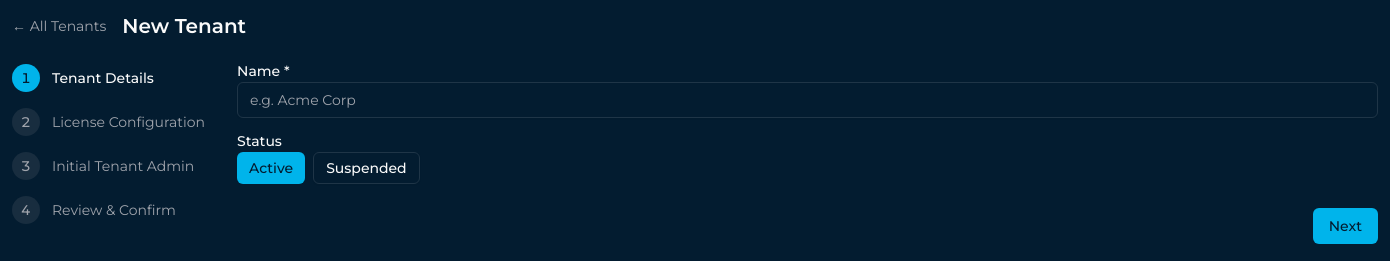
TenantProvisioningPage › step 1 advance: fill in name and click Next renders License Configuration step
This screenshot has width=1390, height=261.
Type "Acme Corp" into the field labelled "Name *" at (808, 100), box [237,82,1378,118]
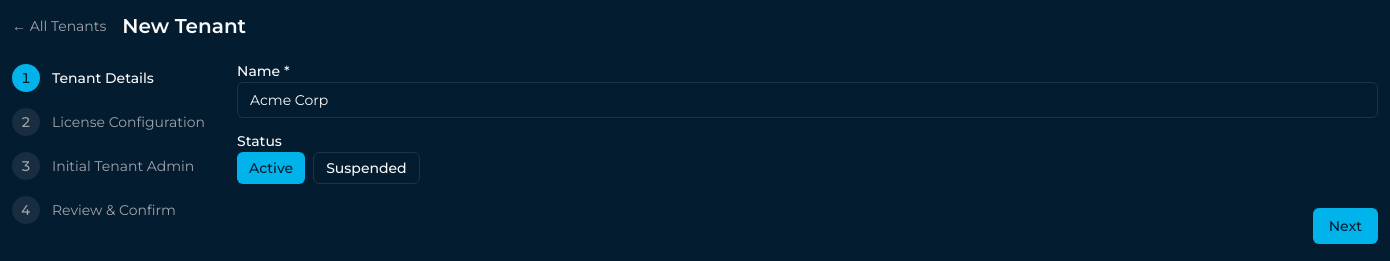
Click the button "Next" at (1345, 226), box [1313,208,1378,244]
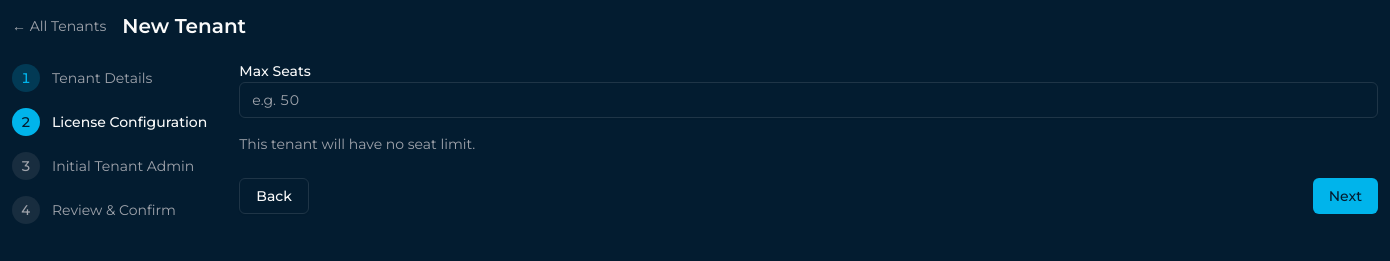
Expected: the text "License Configuration" is shown, [52,112,207,132]
Now the number field labelled "Max Seats" is shown, box [239,82,1378,118]
